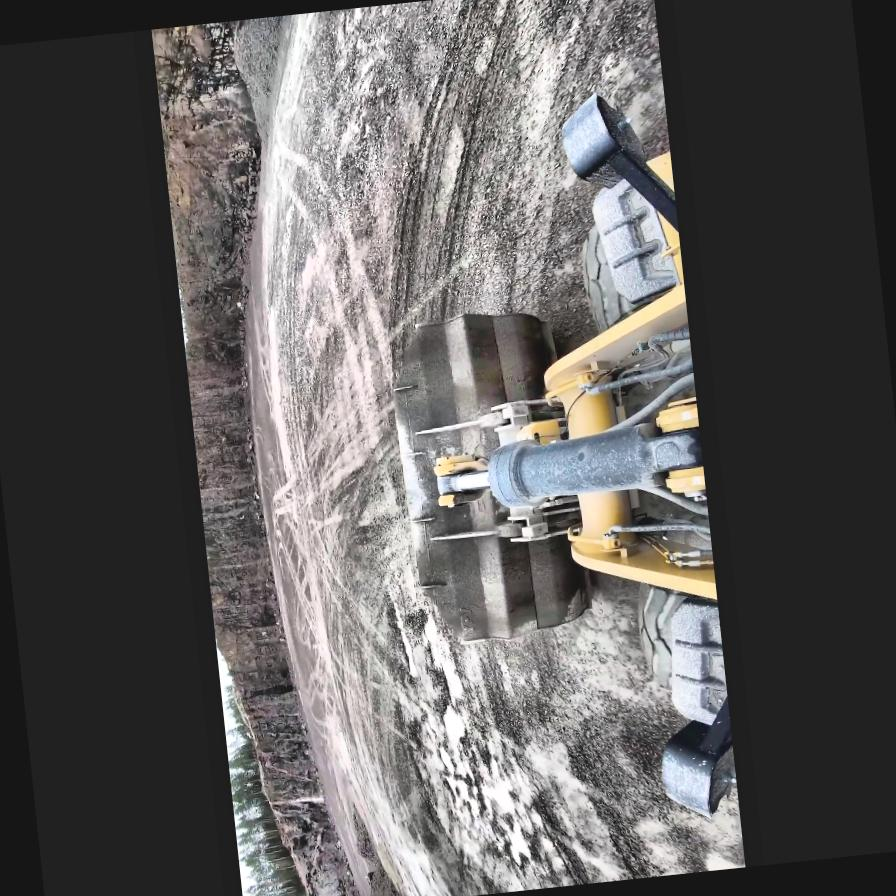anchor: (431, 451, 492, 507)
pile of gravel: (229, 14, 310, 152), (347, 797, 412, 896)
